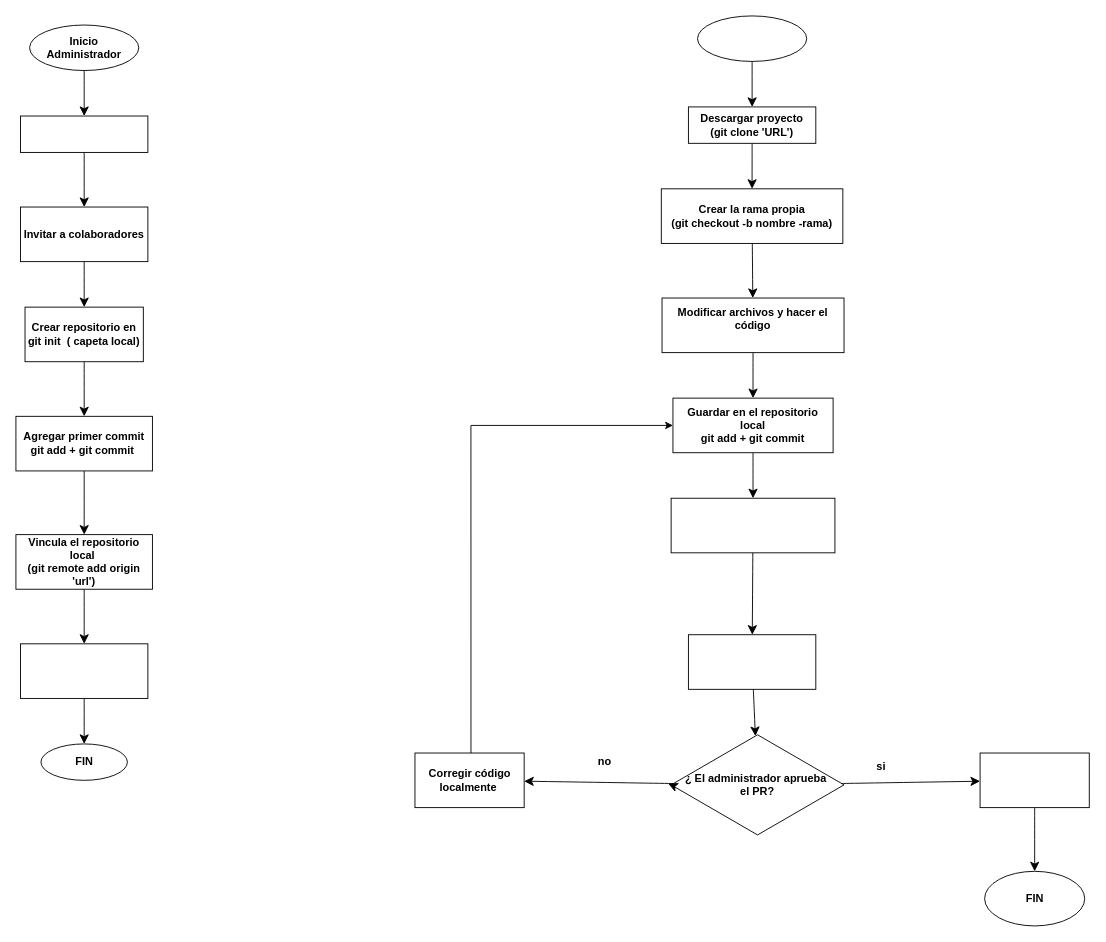
Some shapes in this 1106 by 942 pixel diagram are drawn without their labels. Here are the shapes that lost their labels. From the top down, the centre of each, then its label:
the point at 752,38: Inicio Colaborador
the point at 84,133: Crear el repositorio en github
the point at 752,525: Subir la rama a Github git push origin -nombre -rama
the point at 84,670: Subir a la nube (git push -u origin main )
the point at 752,661: Crear el Pull Request
the point at 1034,780: Si se hace le Merge (los cambios se integran al main)
